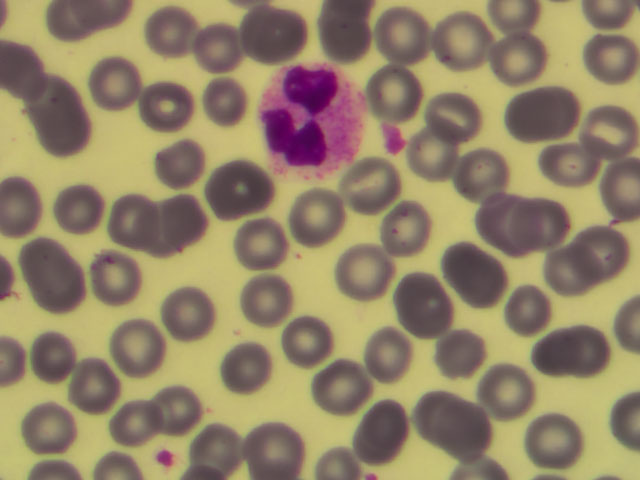Platelets: (377, 118, 409, 159), (154, 442, 182, 480)
RBC: (27, 73, 96, 152), (80, 45, 149, 124), (131, 62, 200, 141), (175, 58, 244, 137), (187, 21, 256, 100), (142, 3, 211, 82), (195, 144, 264, 223), (151, 190, 218, 251), (105, 192, 172, 253), (54, 182, 121, 243), (22, 241, 89, 302), (85, 244, 152, 305), (110, 317, 177, 378), (58, 356, 125, 417), (19, 325, 86, 386), (16, 388, 83, 449), (98, 390, 165, 451), (150, 380, 217, 441), (157, 284, 224, 345), (231, 270, 298, 331), (233, 219, 300, 280), (280, 186, 347, 247), (371, 198, 438, 259), (332, 237, 399, 298), (334, 150, 401, 211), (391, 272, 458, 333), (358, 323, 425, 384), (312, 357, 379, 418), (276, 310, 343, 371), (216, 339, 283, 400), (348, 403, 415, 464), (243, 419, 310, 480), (194, 418, 261, 479), (409, 387, 476, 448), (434, 401, 501, 462), (478, 364, 545, 425), (431, 322, 498, 383), (504, 284, 571, 345), (453, 261, 520, 322), (437, 241, 504, 302), (478, 192, 545, 253), (514, 196, 581, 257), (453, 146, 520, 207), (406, 126, 473, 187), (424, 86, 491, 147), (364, 63, 431, 124), (369, 12, 436, 73), (317, 1, 384, 62), (246, 5, 313, 66), (432, 16, 499, 77), (479, 28, 546, 89), (504, 83, 571, 144), (529, 130, 596, 191), (573, 104, 640, 165), (573, 224, 640, 285), (542, 324, 609, 385), (519, 411, 586, 472), (573, 28, 640, 89), (144, 129, 203, 198)
WBC: (248, 56, 365, 173)
